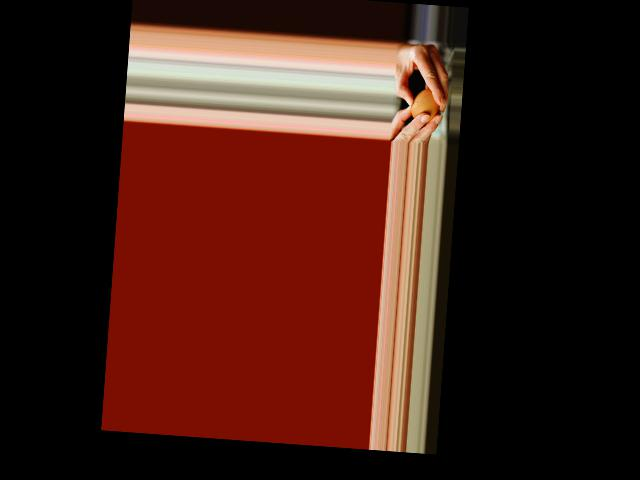egg: (410, 88, 441, 124)
